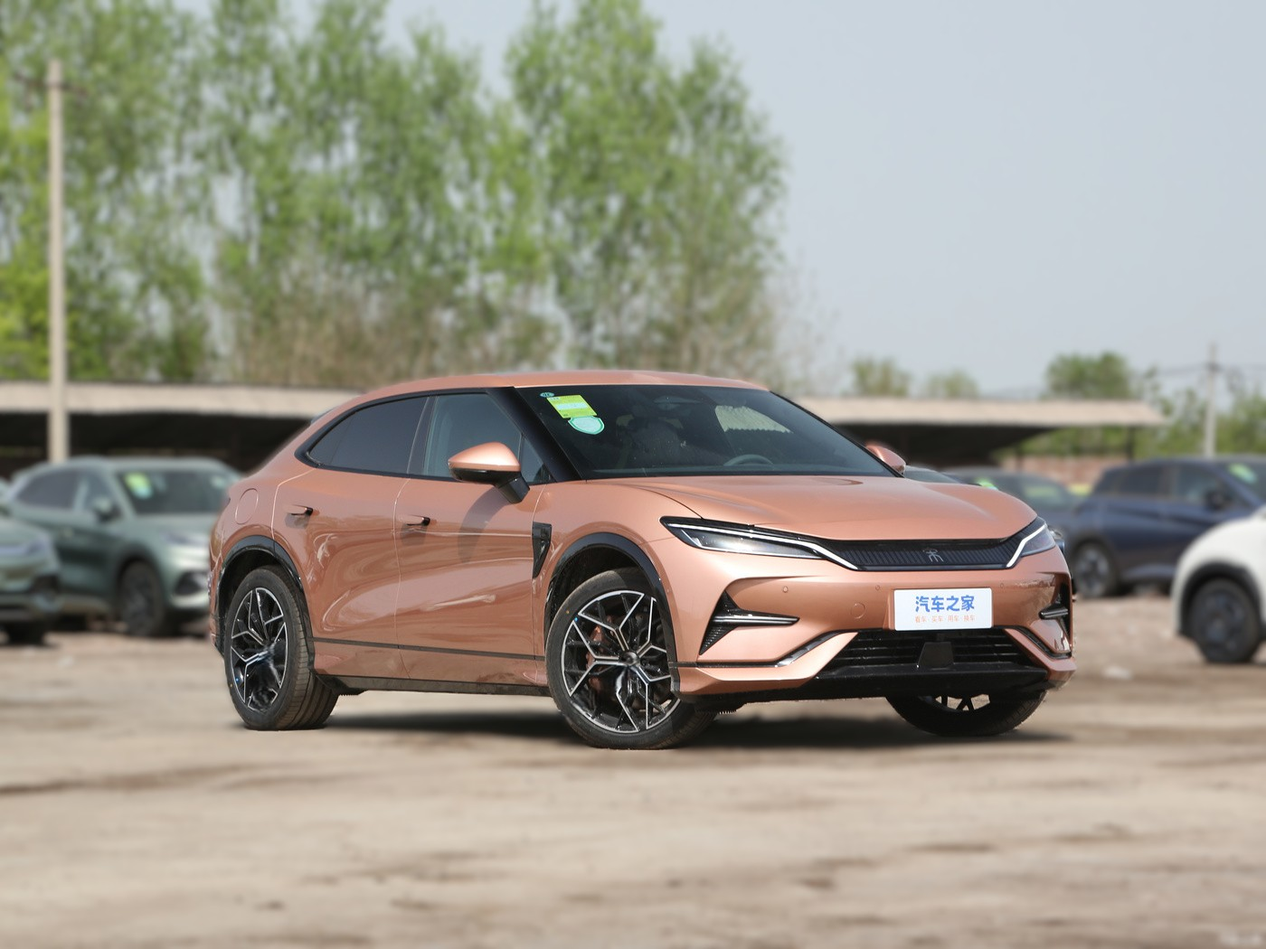BYD Song: (924, 548, 943, 561)
